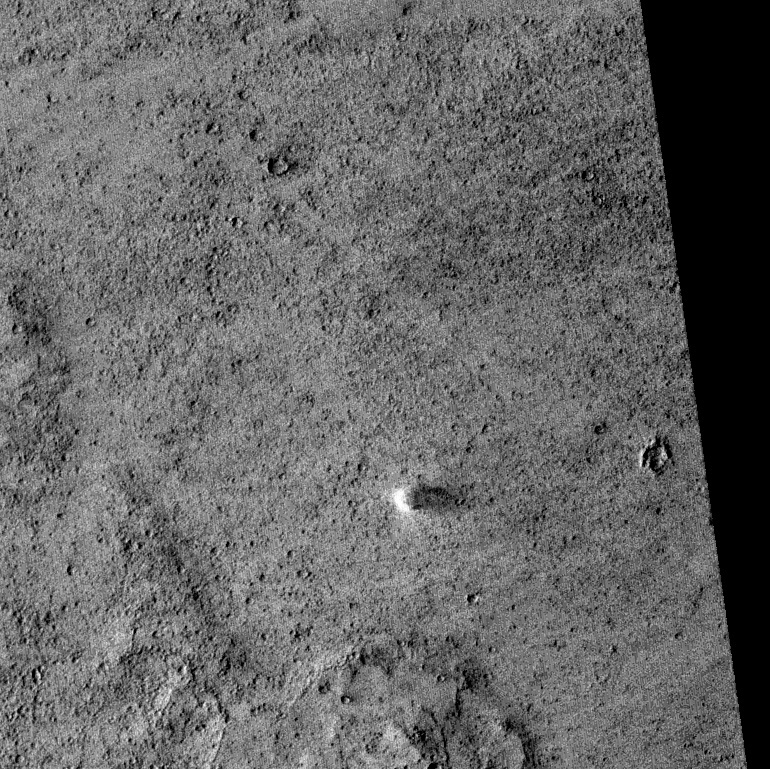dust_devil: (389, 482, 474, 516)
